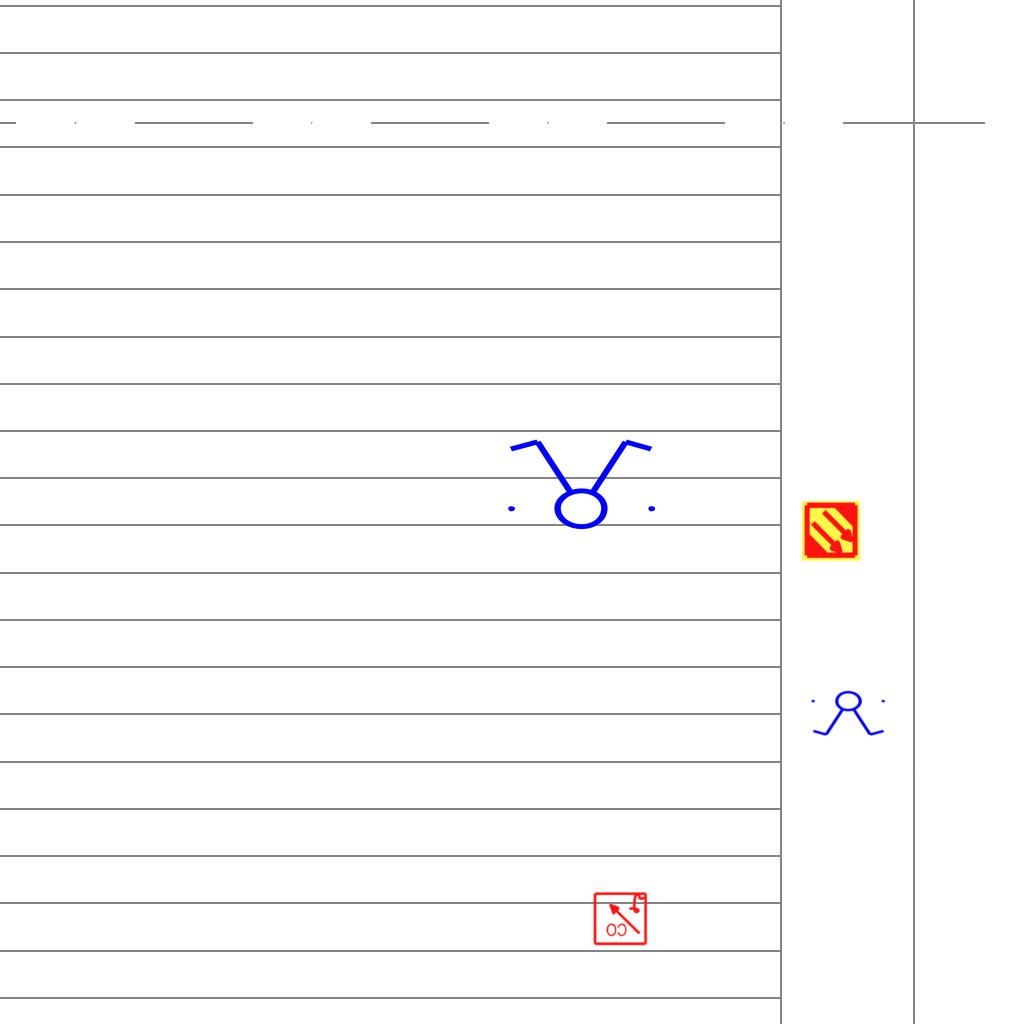ASR_Ansaugrauchmelder: (800, 500, 862, 562)
ROA_Rauchmelder_optisch_mit_Signalgeber_(Sockelsirene): (592, 890, 648, 946)
Serienschalter: (496, 435, 664, 531), (807, 690, 891, 738)
